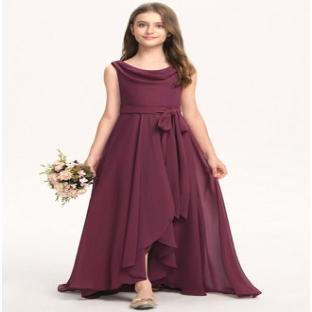Human: (58, 3, 260, 309)
